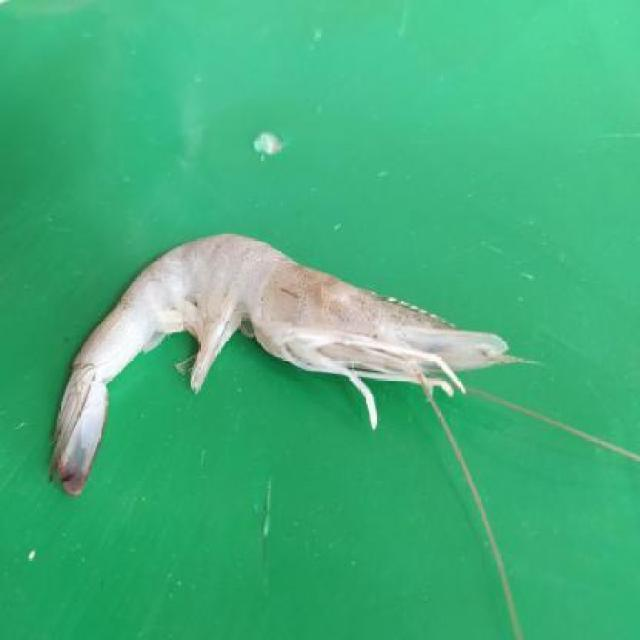shrimp: (58, 236, 502, 461)
